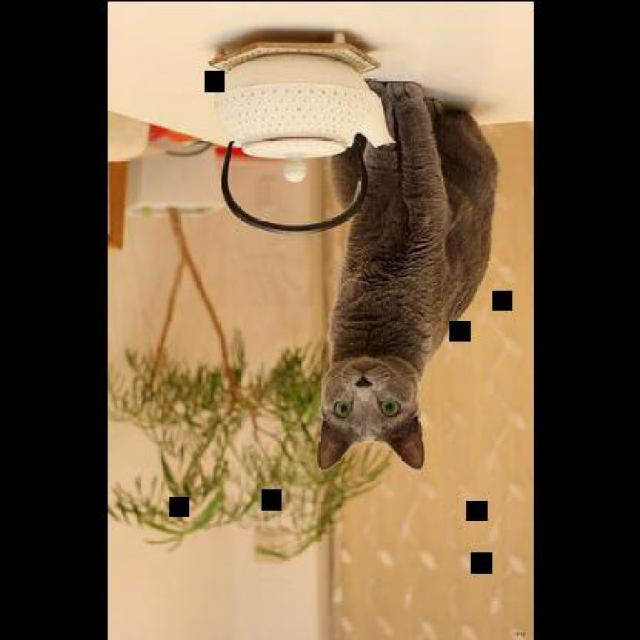unauthorized: (314, 77, 498, 471)
